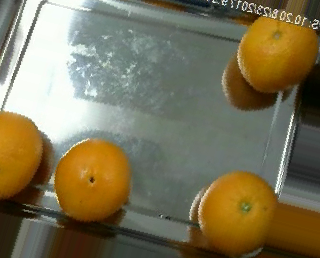Orange: (237, 8, 320, 90), (198, 170, 279, 251), (54, 137, 131, 220)
